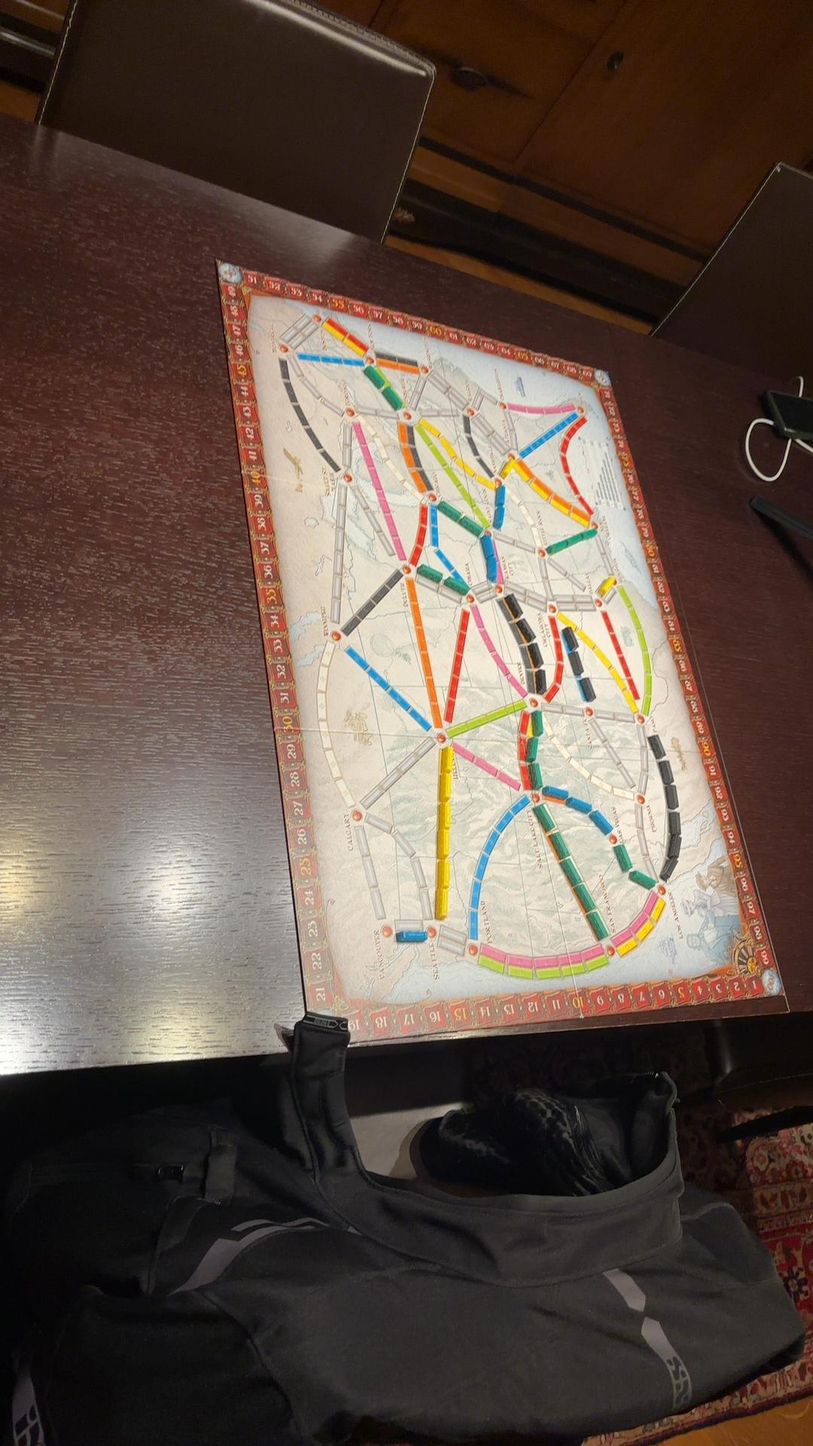black_train: (648, 734, 665, 759), (577, 677, 595, 700), (568, 650, 583, 677), (526, 642, 542, 667), (505, 594, 521, 618), (659, 859, 677, 880), (562, 627, 577, 652), (517, 618, 534, 640), (668, 811, 680, 837), (665, 784, 677, 809), (668, 836, 681, 859), (659, 761, 673, 782), (537, 668, 546, 693)
blue_train: (589, 810, 613, 834), (565, 795, 592, 812), (541, 785, 568, 800), (396, 930, 428, 942)
green_train: (533, 804, 556, 834), (587, 909, 608, 939), (549, 829, 569, 859), (460, 514, 483, 538), (560, 859, 581, 885), (629, 869, 656, 889), (575, 883, 594, 911), (364, 365, 386, 389), (614, 844, 632, 871), (443, 577, 468, 596), (418, 565, 443, 584), (530, 761, 543, 788), (525, 735, 537, 762), (531, 713, 543, 735)
yellow_train: (436, 859, 450, 902), (598, 575, 617, 596)
